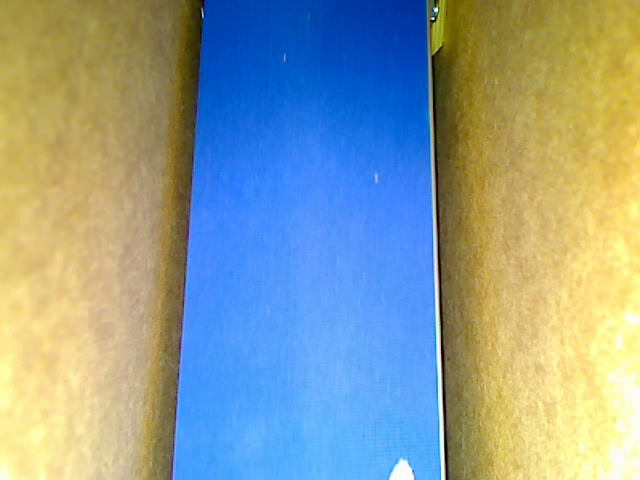penne: (426, 1, 447, 59)
